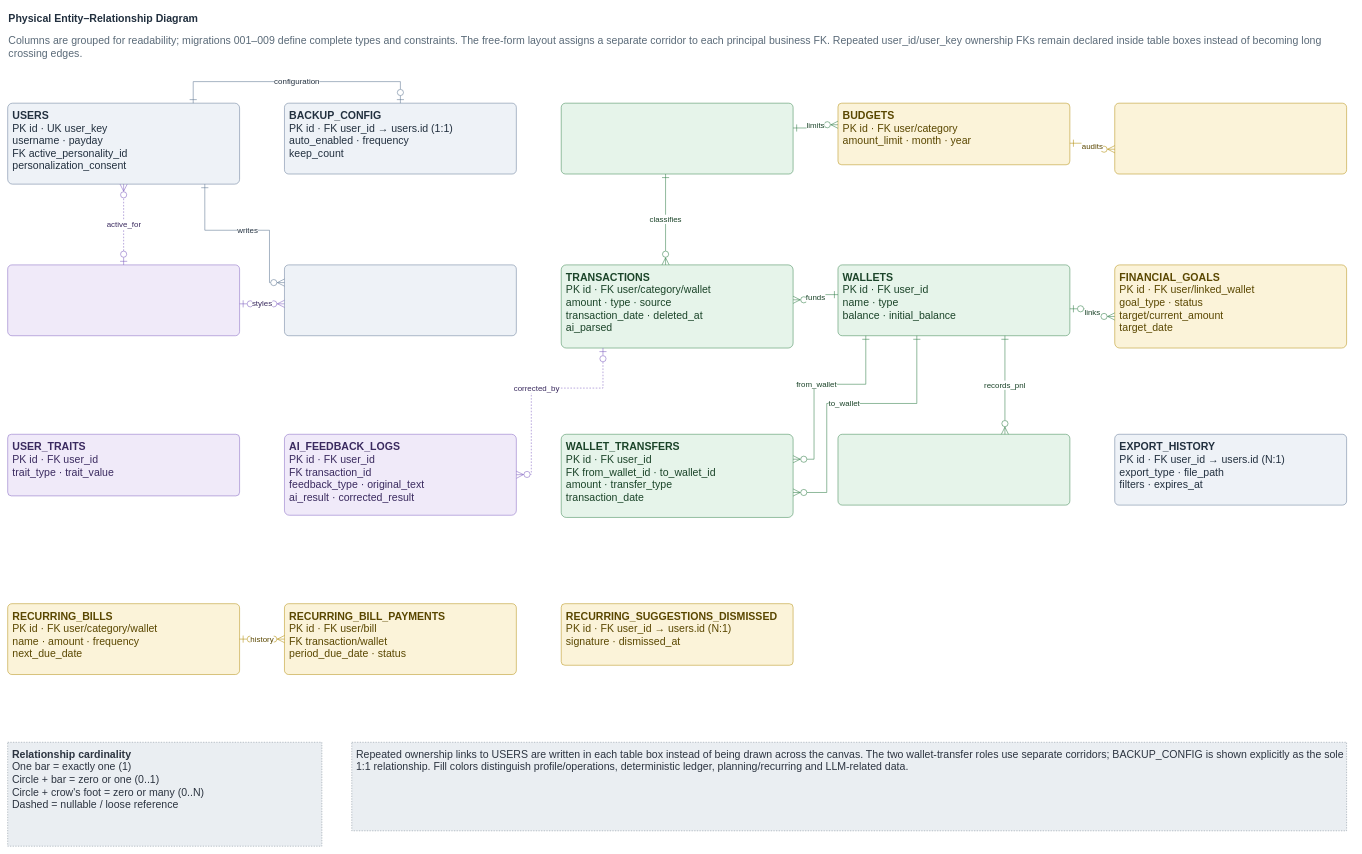
This 1362x854 diagram has some shape labels left out. The shapes that lost their labels are listed below. From the top down, each one's centre as x and y in pixels, then its label:
the point at 677,138: CATEGORIES PK id · FK user_id FK parent_id name · type · is_default
the point at 1230,138: BUDGET_HISTORY PK id · FK budget_id change_type old_value · new_value
the point at 123,300: AI_PERSONALITIES PK id · UK key FK user_key name · style_prompt · is_default
the point at 400,300: CHAT_MESSAGES PK id · FK user_id FK personality_id role · content · metadata
the point at 954,469: INVESTMENT_PNL PK id · FK user_id FK wallet_id amount · recorded_at
